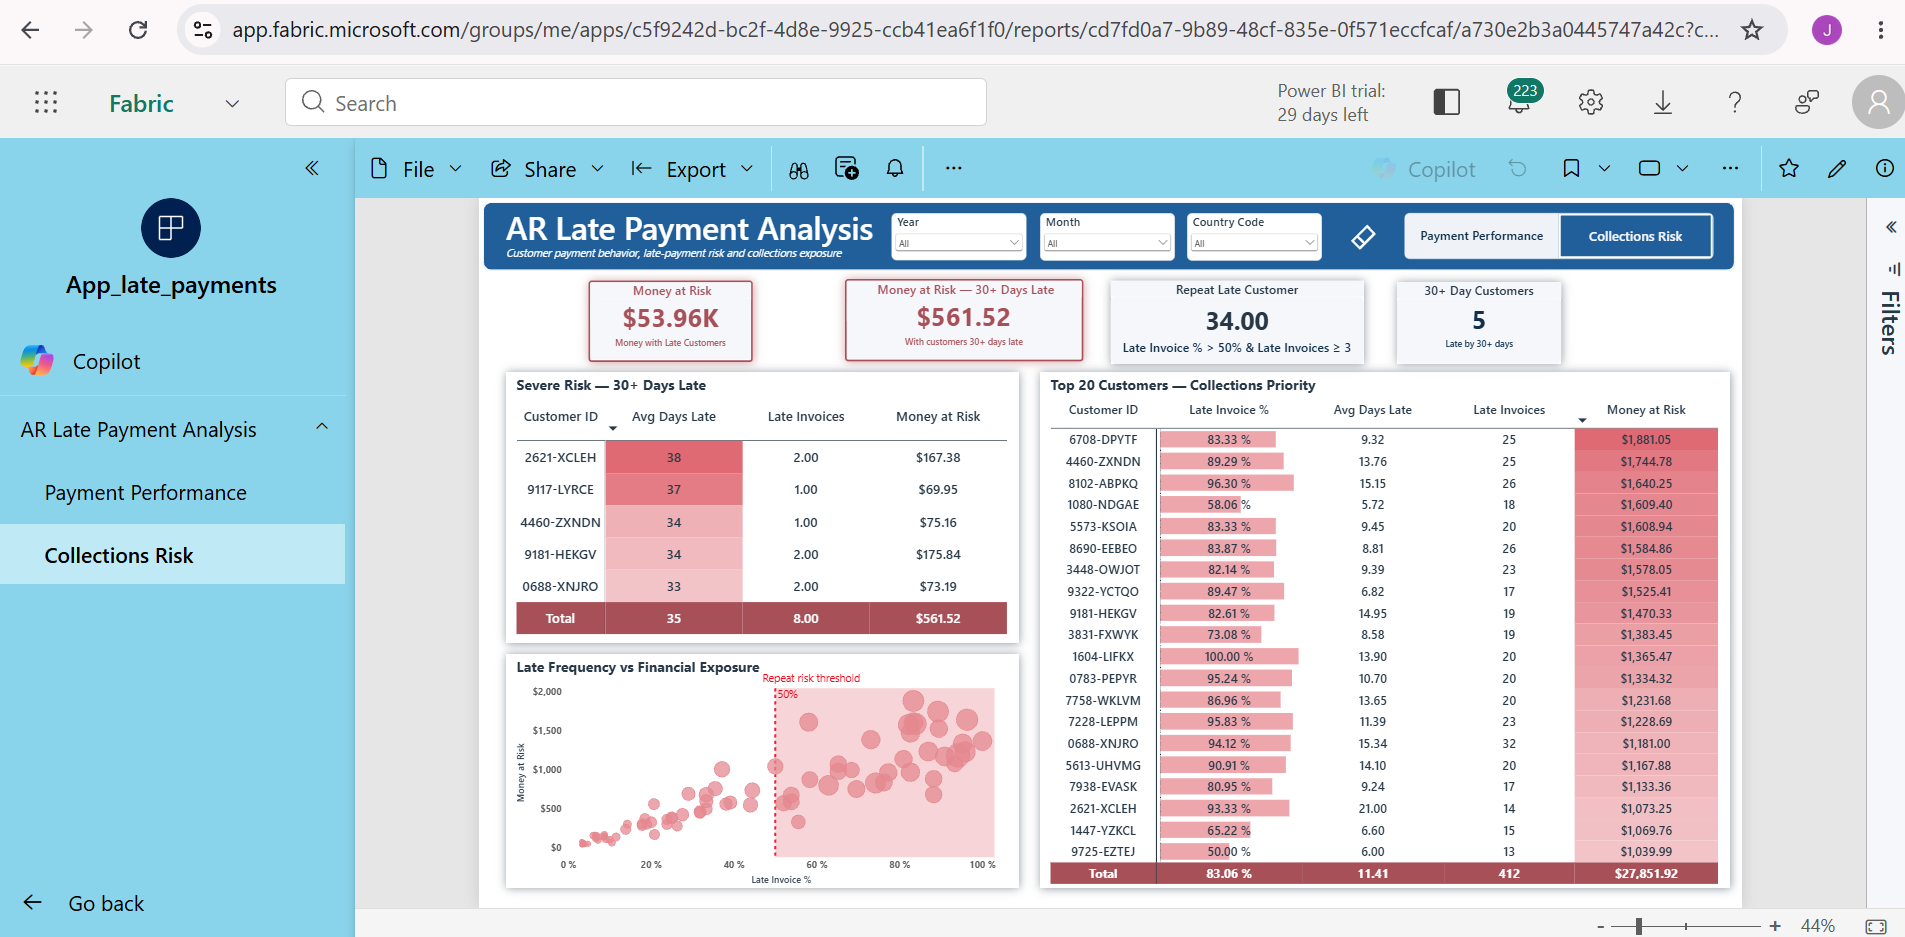

The page's visual inventory and layout, read from the dashboard file:
{"tool":"powerbi","page":{"name":"Collections Risk","canvas":[1920,1080],"ordinal":1},"visuals":[{"type":"shape","box":[7,7,1903.5,103.5],"z":0},{"type":"textbox","box":[40.4,12.3,575.8,68.8],"z":1000},{"type":"textbox","box":[40.4,71.9,575.8,38.7],"z":2000},{"type":"cardVisual","title":"Money at Risk — 30+ Days Late","fields":{"Data":["silver_accounts.Money at Risk"]},"box":[557.5,122.5,362.5,125],"z":9000},{"type":"cardVisual","title":"Money at Risk","fields":{"Data":["silver_accounts.Money at Risk"]},"box":[167.5,125,250,124.1],"z":11000},{"type":"cardVisual","title":"Repeat Late Customer","fields":{"Data":["silver_accounts.Repeat Late Customer"]},"box":[960,125,385,127.5],"z":13000},{"type":"pivotTable","title":"Severe Risk — 30+ Days Late","fields":{"Rows":["silver_accounts.customer_id"],"Values":["silver_accounts.Customer Avg Days Late","silver_accounts.Late Invoices","silver_accounts.Money at Risk"]},"box":[40,265,780,412.5],"z":17000},{"type":"pivotTable","title":"Top 20 Customers — Collections Priority","fields":{"Rows":["silver_accounts.customer_id"],"Values":["silver_accounts.Late Invoice %","silver_accounts.Customer Avg Days Late","silver_accounts.Late Invoices","silver_accounts.Money at Risk"]},"box":[852.5,265,1050,785],"z":18000},{"type":"slicer","fields":{"Values":["silver_accounts.year"]},"box":[627.5,22.5,205,72],"z":18001},{"type":"slicer","fields":{"Values":["silver_accounts.country_code"]},"box":[1077.5,22.5,205,72.5],"z":18002},{"type":"slicer","fields":{"Values":["silver_accounts.month"]},"box":[852.5,22.5,205,72.5],"z":18003},{"type":"actionButton","box":[1300,30,90.2,60.2],"z":18004},{"type":"pageNavigator","box":[1407.5,22.5,470,70],"z":18005},{"type":"cardVisual","title":"30+ Day Customers","fields":{"Data":["Count(silver_accounts.customer_id)"]},"box":[1395.5,127.3,250,124.1],"z":18006},{"type":"scatterChart","title":"Late Frequency vs Financial Exposure","fields":{"Category":["silver_accounts.customer_id"],"Size":["silver_accounts.Late Invoices"],"X":["silver_accounts.Late Invoice %"],"Y":["silver_accounts.Money at Risk"]},"box":[40.6,694.3,780.2,355.5],"z":18007},{"type":"textbox","box":[431.1,717.8,168.9,26.7],"z":18008},{"type":"textbox","box":[453.3,744.4,33.3,26.7],"z":18009}]}

Visuals, with their boxes on the page's 1920x1080 design canvas (x1, y1, x2, y2). These are canvas units, not pixel positions in the 1905x937 screenshot, which may show the page scaled, cropped or inside an application window:
shape: bbox(7, 7, 1910, 110)
textbox: bbox(40, 12, 616, 81)
textbox: bbox(40, 72, 616, 111)
"Money at Risk — 30+ Days Late" cardVisual: bbox(558, 122, 920, 248)
"Money at Risk" cardVisual: bbox(168, 125, 418, 249)
"Repeat Late Customer" cardVisual: bbox(960, 125, 1345, 252)
"Severe Risk — 30+ Days Late" pivotTable: bbox(40, 265, 820, 678)
"Top 20 Customers — Collections Priority" pivotTable: bbox(852, 265, 1902, 1050)
slicer - silver_accounts.year: bbox(628, 22, 832, 94)
slicer - silver_accounts.country_code: bbox(1078, 22, 1282, 95)
slicer - silver_accounts.month: bbox(852, 22, 1058, 95)
actionButton: bbox(1300, 30, 1390, 90)
pageNavigator: bbox(1408, 22, 1878, 92)
"30+ Day Customers" cardVisual: bbox(1396, 127, 1646, 251)
"Late Frequency vs Financial Exposure" scatterChart: bbox(41, 694, 821, 1050)
textbox: bbox(431, 718, 600, 744)
textbox: bbox(453, 744, 487, 771)
